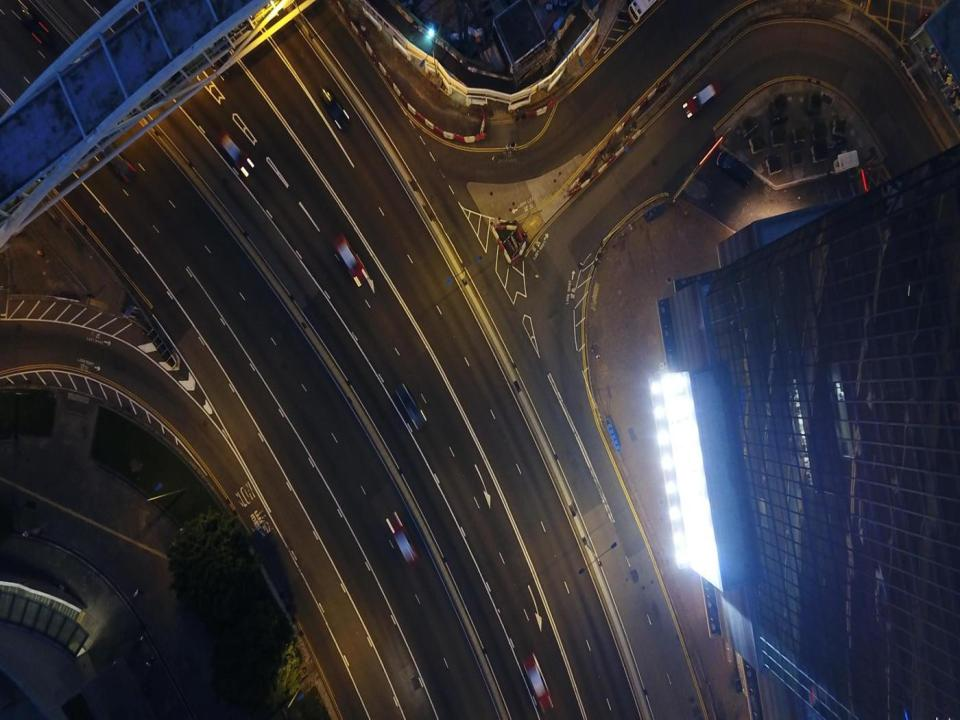car: (88, 128, 136, 184), (521, 652, 555, 712), (335, 234, 369, 287), (217, 133, 253, 179), (388, 511, 416, 564), (682, 83, 721, 117), (397, 386, 427, 430)
